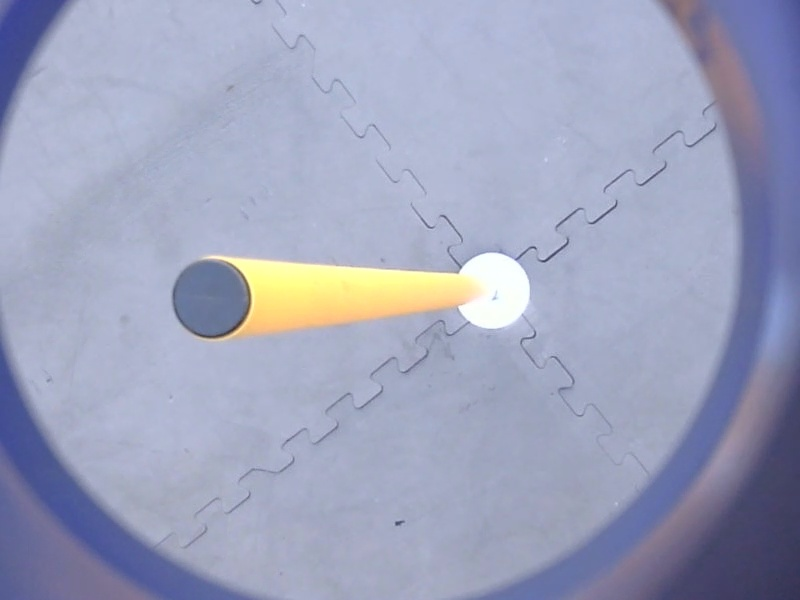tip: (163, 250, 259, 349)
